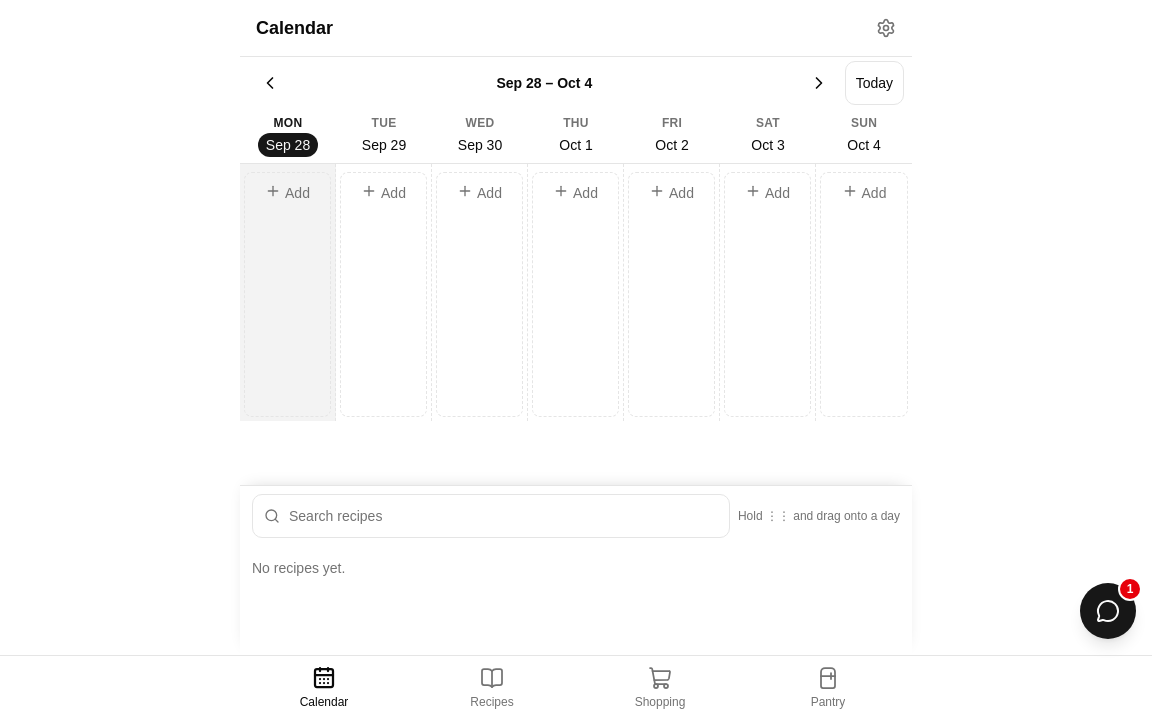
Test: chat bubble › reopens the last chat instead when it has an action awaiting confirmation
What coordinates should you click on to do the following:
click the button named "Open chat, 1 action needs your OK"
I would click on:
 (1108, 611)
Its box is 1080,583 -> 1136,639.
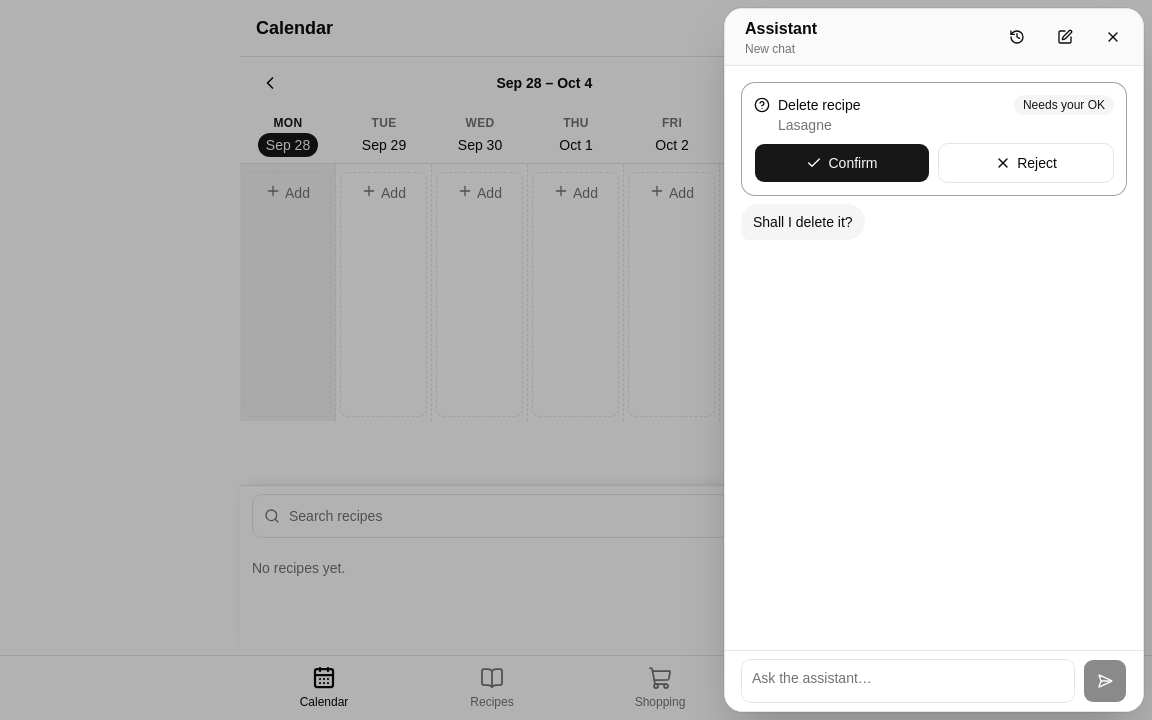
Now the button "Confirm" is shown, box 754,143 -> 930,183
